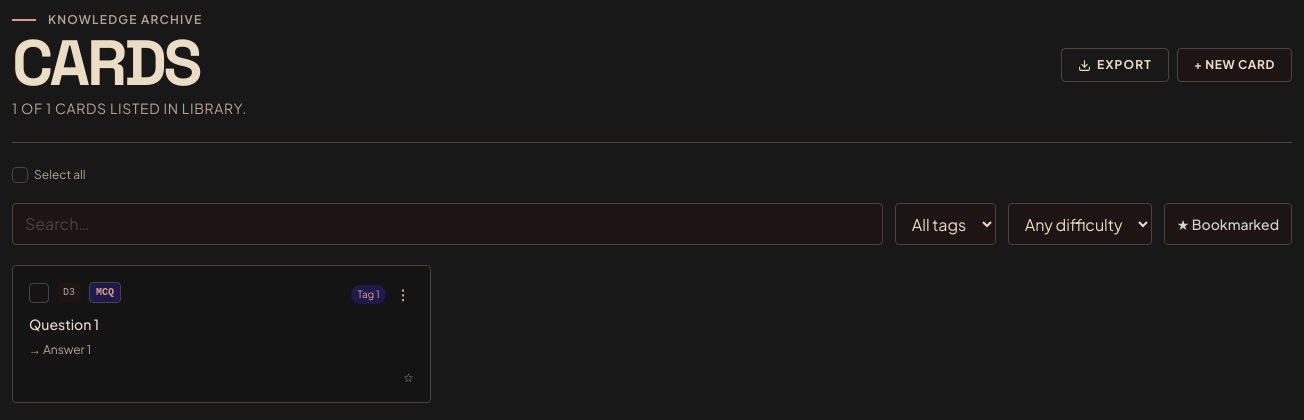
renders star bookmark button and updates it upon click
The image size is (1304, 420).
// Click it
Click the button named "Bookmark card" at {"x": 408, "y": 378}, box [403,370,414,386]
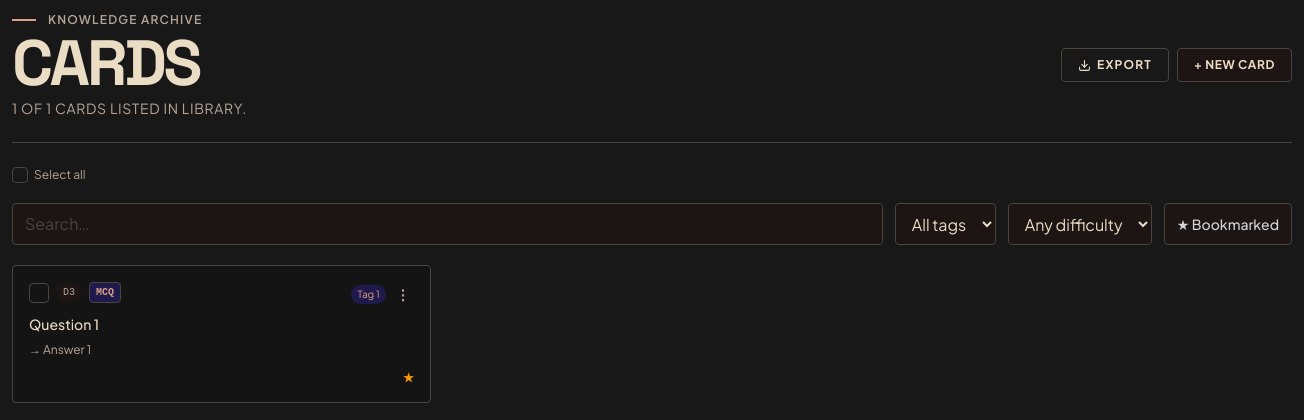
Result: the button named "Bookmark card" reads "★" at [403,370,414,386]
